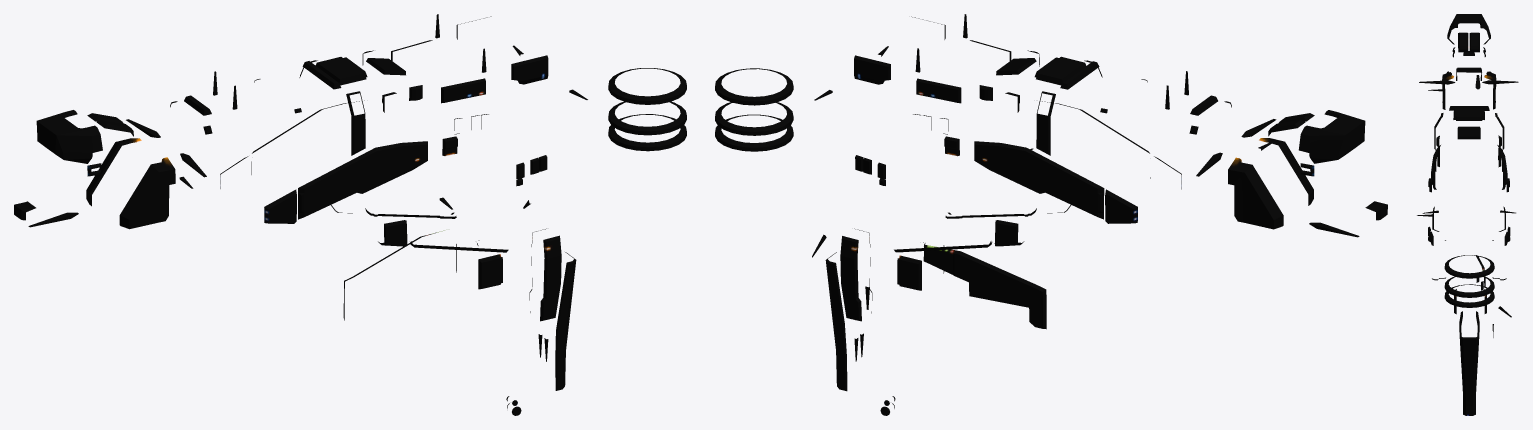
The model's file is tan_st_outp_03.glb.
The picture shows the model from 3 angles, left to right: view 1: azimuth 30°, elevation 25°; view 2: azimuth 150°, elevation 25°; view 3: azimuth 270°, elevation 25°; orthographic projection. The views are drawn at different scales.
Parts seen in each view (by area): view 1: tan_outpost_03_LOD0; view 2: tan_outpost_03_LOD0; view 3: tan_outpost_03_LOD0.
Part boxes in pixels (<box>): tan_outpost_03_LOD0: <box>14,14,686,415</box>; tan_outpost_03_LOD0: <box>715,14,1387,415</box>; tan_outpost_03_LOD0: <box>1417,14,1518,415</box>.
Size of what is drawn, in the model's own units: 33.46 by 19.54 by 7.02.
Materials: 1 (1 with a texture image).
